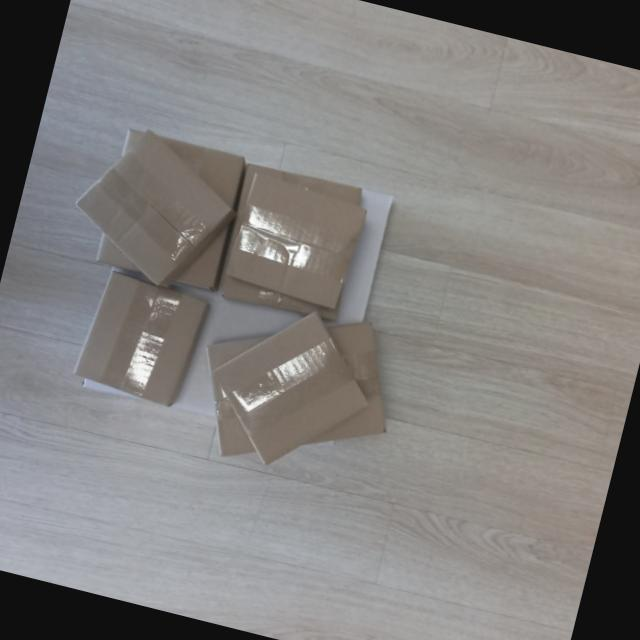box: (185, 284, 393, 492), (55, 113, 248, 304), (216, 165, 376, 322), (64, 262, 216, 414)
